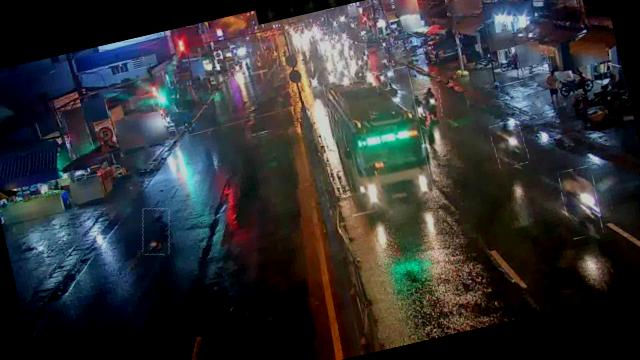Bike: (556, 165, 604, 239), (135, 205, 176, 258), (488, 119, 530, 170), (422, 85, 445, 120), (410, 96, 432, 128), (373, 71, 392, 92), (337, 68, 352, 88), (381, 59, 394, 79)
Bus: (322, 65, 437, 216)
